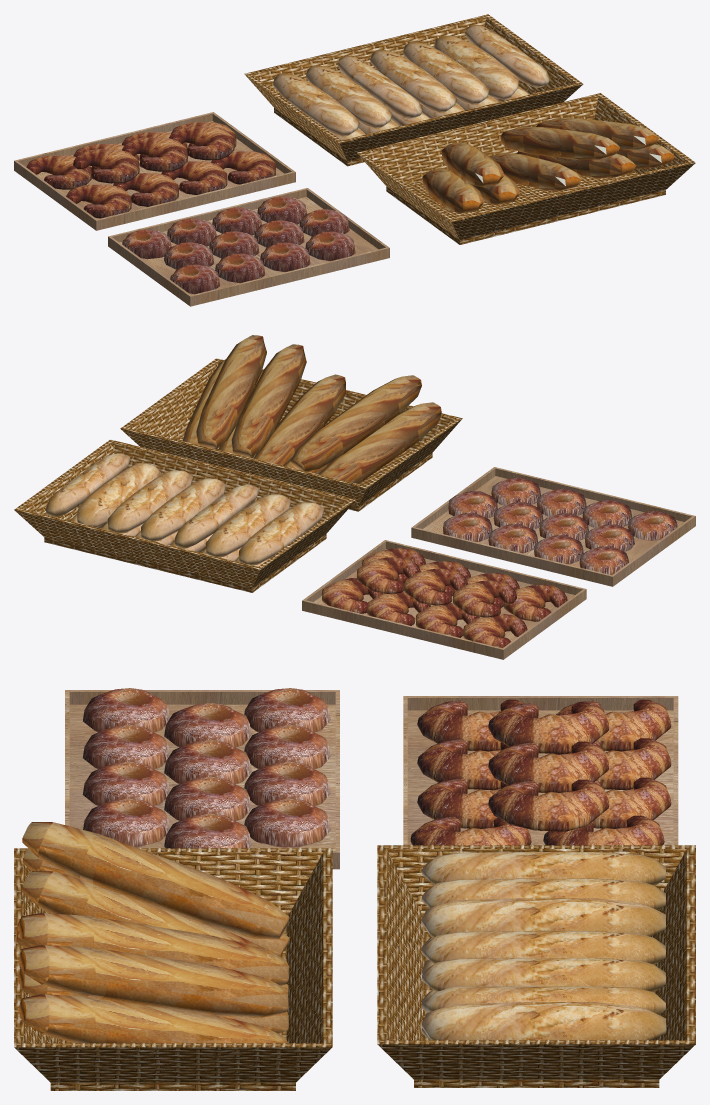
The model's file is Coctelcito.glb.
3 views of the same model, one above another, from view 1: azimuth 30°, elevation 25°; view 2: azimuth 150°, elevation 25°; view 3: azimuth 270°, elevation 25° (orthographic). The views are drawn at different scales.
Parts seen in each view (by area): view 1: 3DGeom-15_89, 3DGeom-15_4257, 3DGeom-1334_2483, 3DGeom-1339_2494, 3DGeom-25_62, 3DGeom-2311_4268, 3DGeom-2311_4260, 3DGeom-2311_4270, 3DGeom-2311_4262, 3DGeom-2311_4266, 3DGeom-2311_4264, 3DGeom-2311_4272 (+27 smaller); view 2: 3DGeom-15_4257, 3DGeom-15_89, 3DGeom-1334_2483, 3DGeom-1339_2494, 3DGeom-25_50, 3DGeom-25_62, 3DGeom-25_56, 3DGeom-25_94, 3DGeom-25_74, 3DGeom-2311_4268, 3DGeom-2311_4260, 3DGeom-2311_4270 (+28 smaller); view 3: 3DGeom-15_4257, 3DGeom-15_89, 3DGeom-1334_2483, 3DGeom-2311_4272, 3DGeom-1339_2494, 3DGeom-25_56, 3DGeom-25_50, 3DGeom-25_62, 3DGeom-2311_4264, 3DGeom-25_86, 3DGeom-2311_4270, 3DGeom-2311_4260 (+33 smaller).
Part boxes in pixels (x1,y1,x2,y2): 3DGeom-15_89: (357,93,695,244); 3DGeom-15_4257: (244,14,583,166); 3DGeom-1334_2483: (108,188,389,306); 3DGeom-1339_2494: (14,112,295,230); 3DGeom-25_62: (500,127,619,157); 3DGeom-2311_4268: (273,73,359,136); 3DGeom-2311_4260: (370,49,456,112); 3DGeom-2311_4270: (403,41,489,104); 3DGeom-2311_4262: (306,65,392,128); 3DGeom-2311_4266: (434,35,519,99); 3DGeom-2311_4264: (337,55,422,118); 3DGeom-2311_4272: (465,24,550,87); 3DGeom-15_4257: (14,439,356,592); 3DGeom-15_89: (120,358,462,511); 3DGeom-1334_2483: (411,467,695,586); 3DGeom-1339_2494: (302,540,586,659); 3DGeom-25_50: (291,375,421,471); 3DGeom-25_62: (231,344,306,455); 3DGeom-25_56: (196,335,266,446); 3DGeom-25_94: (318,402,441,483); 3DGeom-25_74: (253,374,345,465); 3DGeom-2311_4268: (239,502,323,565); 3DGeom-2311_4260: (141,478,225,541); 3DGeom-2311_4270: (107,470,192,533); 3DGeom-15_4257: (377,845,695,1087); 3DGeom-15_89: (14,848,332,1090); 3DGeom-1334_2483: (65,690,339,869); 3DGeom-2311_4272: (422,1002,665,1040); 3DGeom-1339_2494: (403,696,678,845); 3DGeom-25_56: (22,945,288,1007); 3DGeom-25_50: (23,822,288,931); 3DGeom-25_62: (21,913,288,978); 3DGeom-2311_4264: (422,898,665,937); 3DGeom-25_86: (22,994,287,1043); 3DGeom-2311_4270: (422,958,665,991); 3DGeom-2311_4260: (422,931,665,964).
Size of the model in its own units: 1.31 by 0.1902 by 0.9446.
8 materials, 8 textured.
